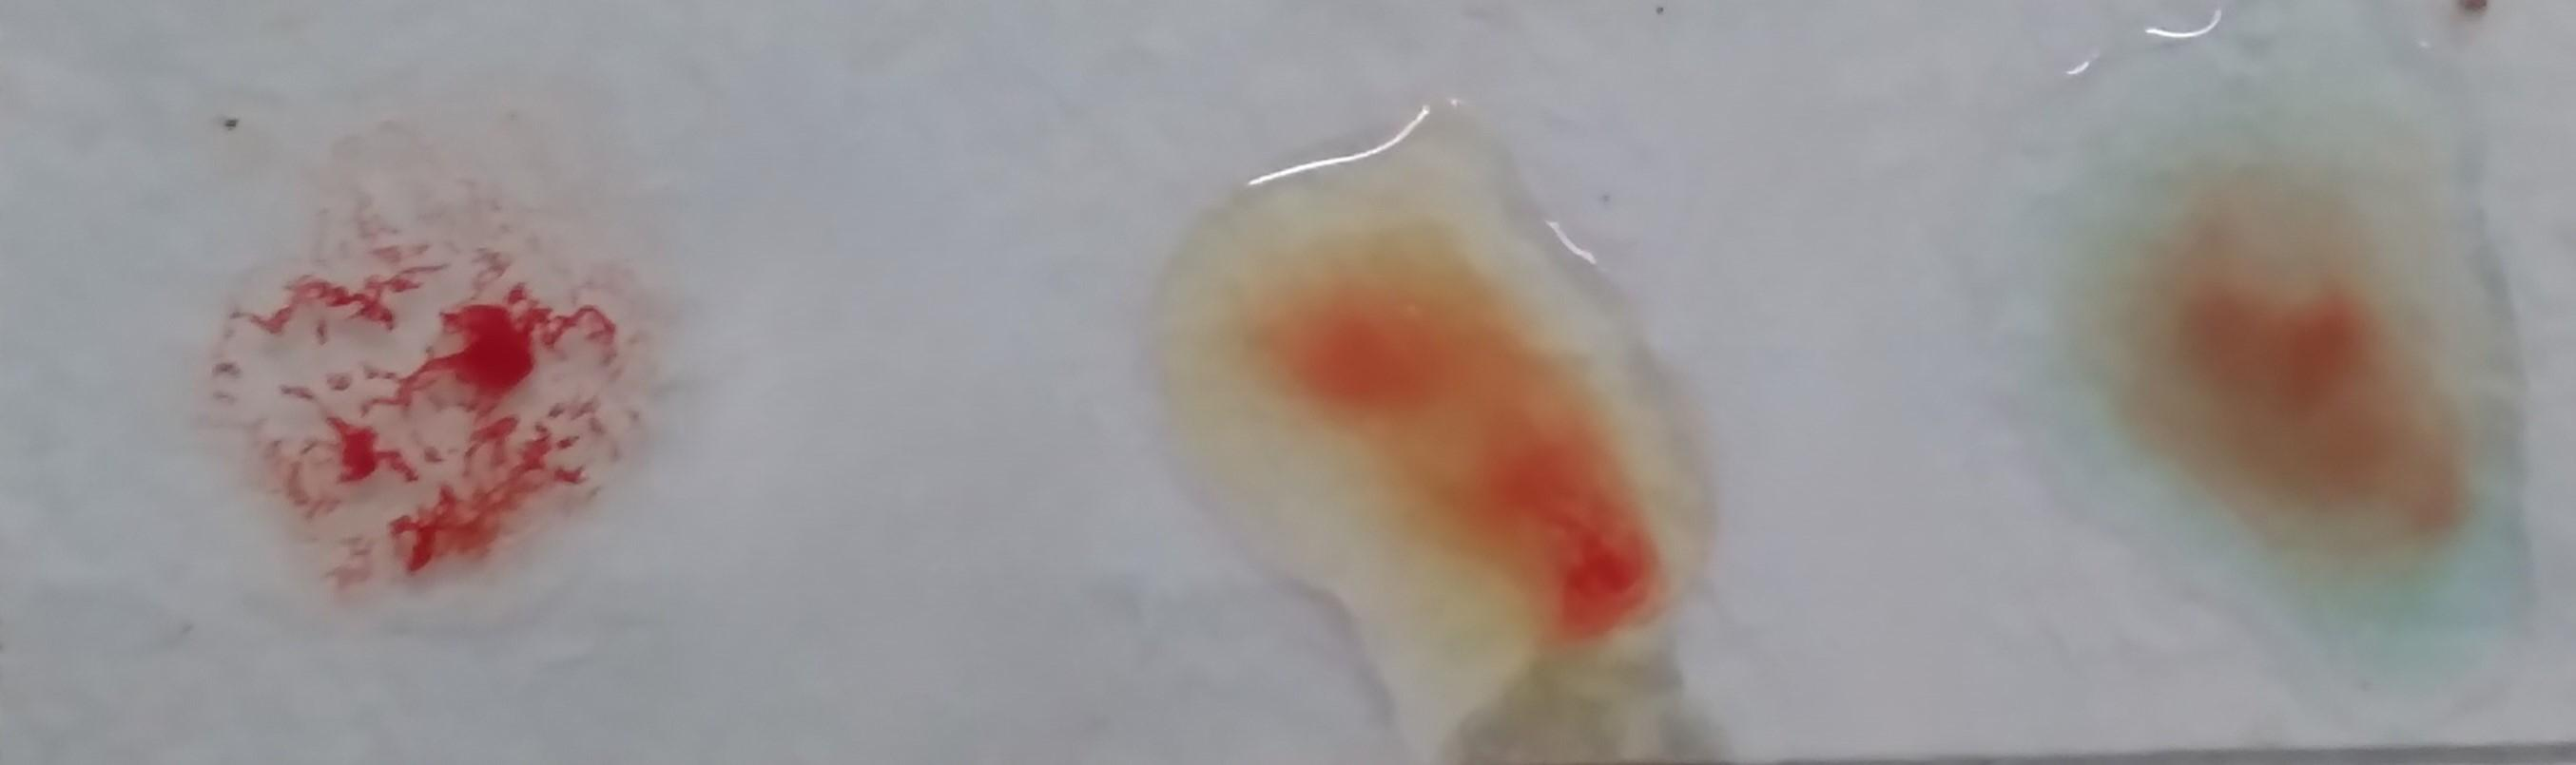D: (218, 167, 639, 606)
